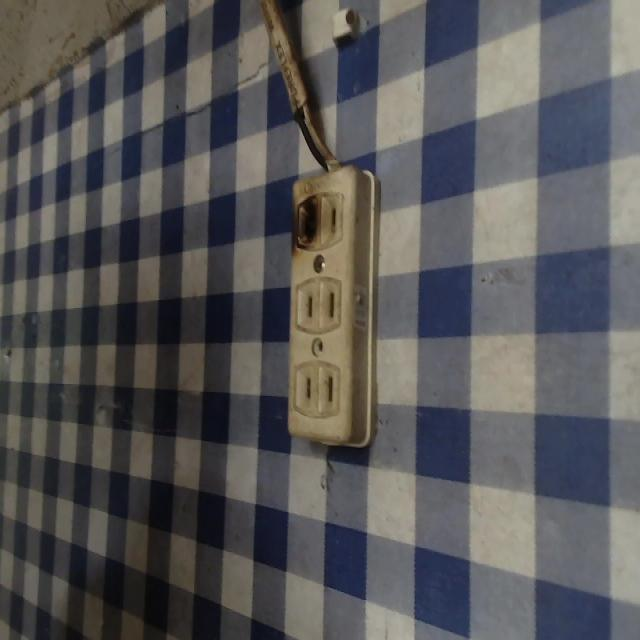-: (285, 189, 328, 256)
